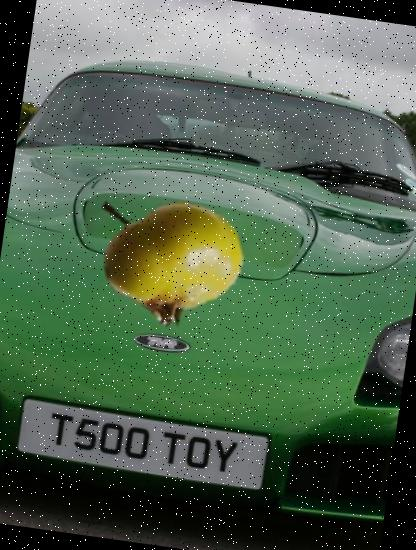Apple: (91, 176, 254, 340)
